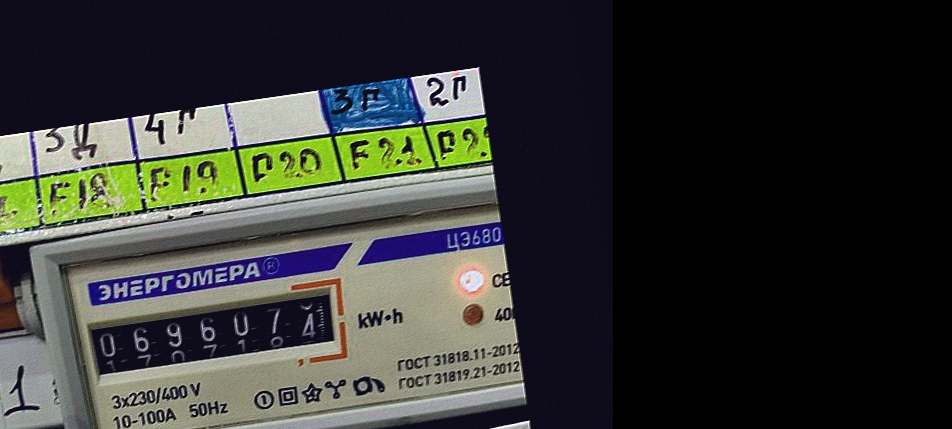0: (96, 327, 121, 358), (231, 305, 253, 336), (131, 323, 152, 351)
4: (298, 309, 319, 339)
6: (196, 310, 218, 342)
7: (264, 301, 286, 333)
9: (164, 317, 186, 347)
screen: (72, 271, 355, 393)
